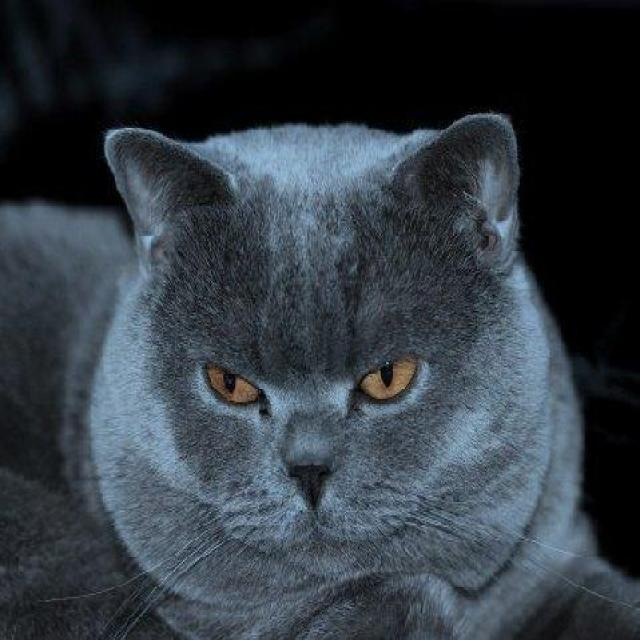British_Shorthair: (96, 117, 534, 608)
